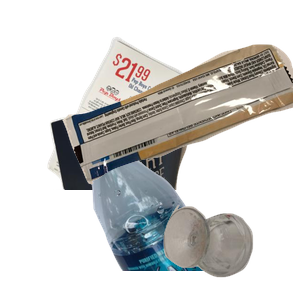glass: (161, 202, 300, 300)
paper: (45, 34, 230, 214)
plastic: (71, 120, 300, 300)
trash: (60, 42, 300, 219)
